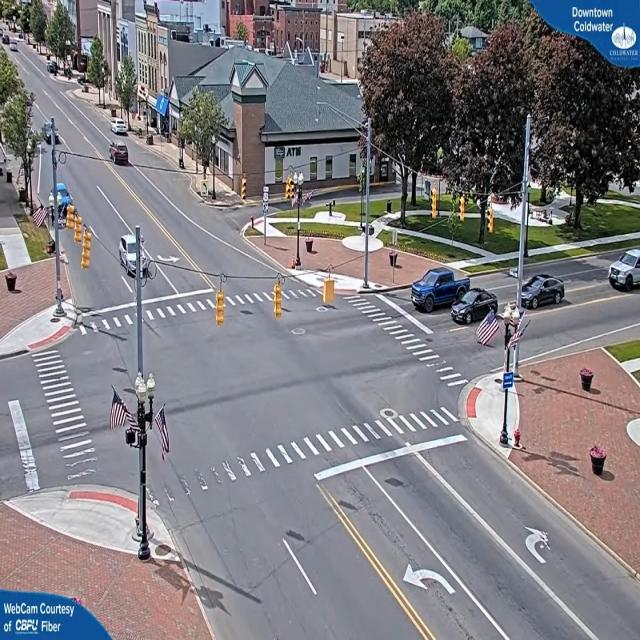car: (413, 268, 466, 314), (452, 288, 497, 325), (522, 273, 567, 308), (607, 250, 640, 292), (119, 230, 146, 279), (112, 146, 132, 167), (112, 120, 130, 136), (11, 44, 20, 54)
